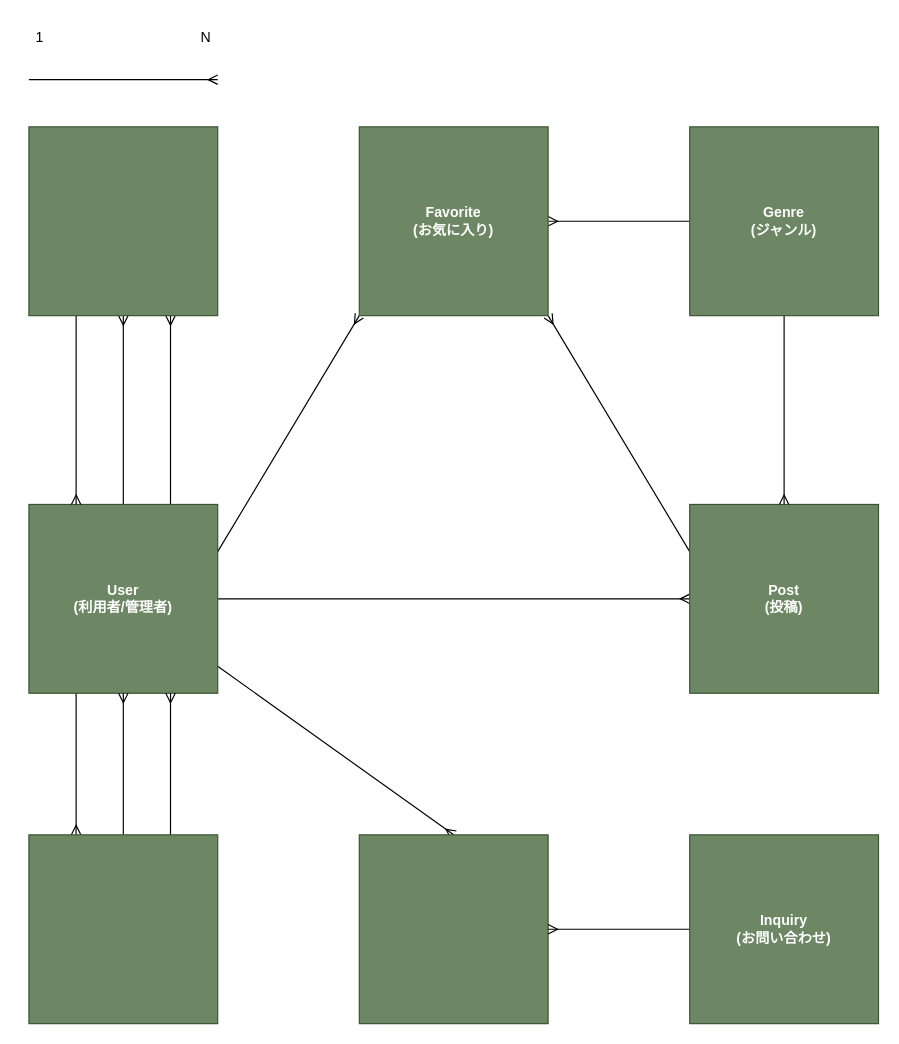
Some shapes in this 899 by 1044 pixel diagram are drawn without their labels. Each missing label, with the centre of its shape:
Address (アドレス): point 453,929
Firend (友達): point 123,929
Talk (会話): point 123,221
